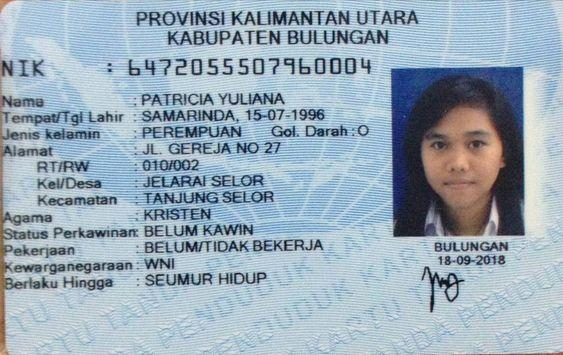ID-card: (1, 1, 562, 352)
